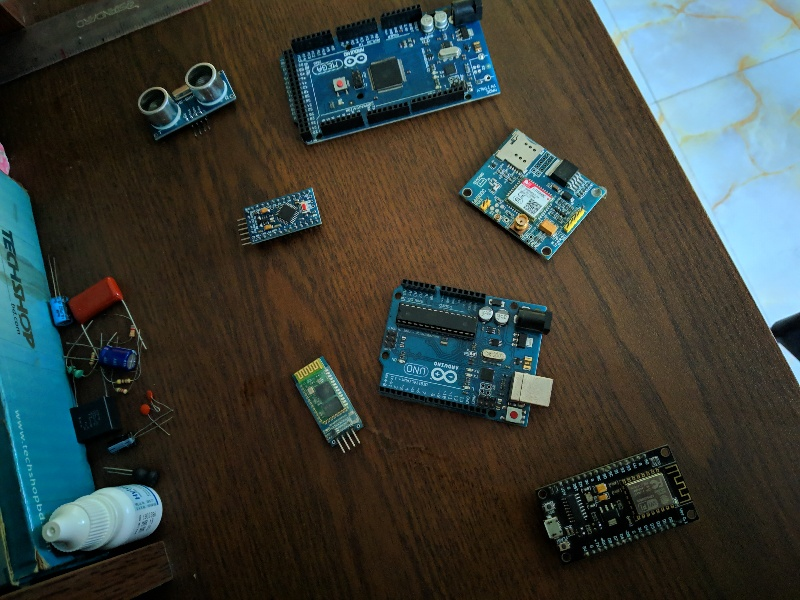Arduino Mega 2560: (273, 1, 504, 146)
Arduino Pro Mini: (232, 180, 329, 253)
Arduino UNO: (372, 276, 560, 434)
HC-05: (283, 352, 371, 462)
NodeMCU: (514, 441, 712, 571)
SIM800: (455, 125, 613, 266)
Sonar Sensor: (124, 56, 243, 145)
